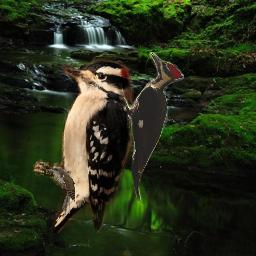Cuckoo: (49, 167, 75, 215)
Woodpecker: (31, 56, 135, 233), (116, 52, 184, 201)
